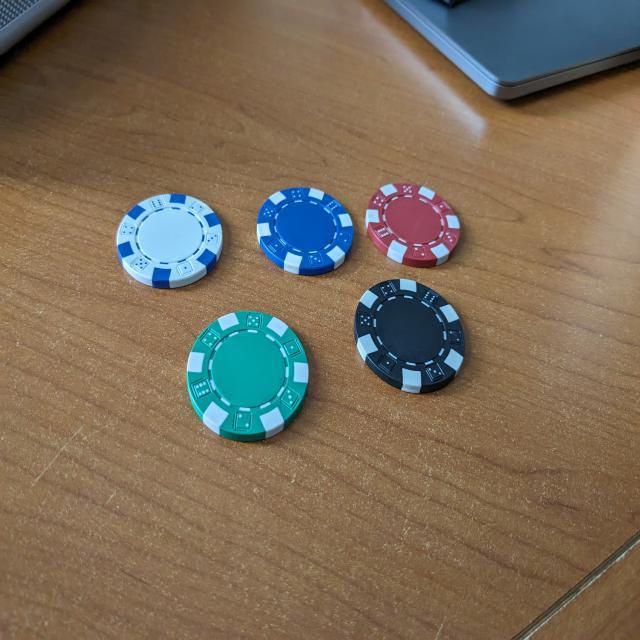black chip: (354, 280, 467, 395)
blue chip: (256, 187, 356, 279)
green chip: (184, 312, 312, 444)
red chip: (365, 183, 463, 268)
white chip: (113, 193, 224, 292)
